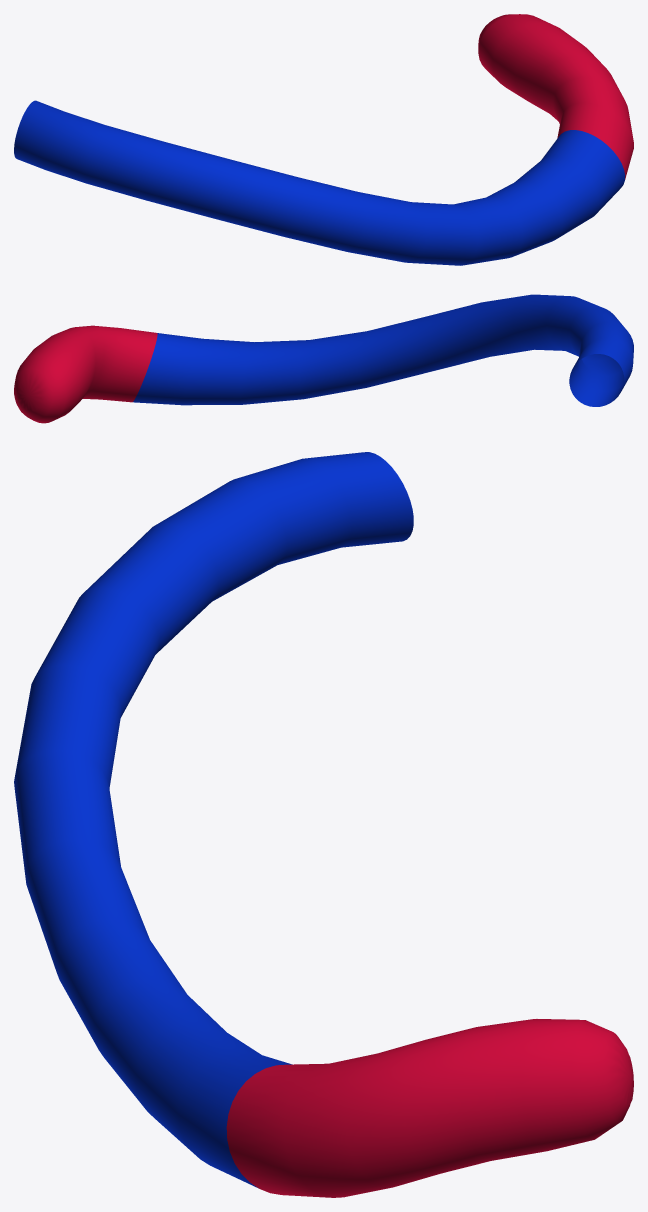
3 renders of one model, top to bottom at view 1: azimuth 30°, elevation 25°; view 2: azimuth 150°, elevation 25°; view 3: azimuth 270°, elevation 25°, orthographic. The views are drawn at different scales.
Parts seen in each view (by area): view 1: BezierCurve.019; view 2: BezierCurve.019; view 3: BezierCurve.019.
Boxes of the visible parts, left/top/right/bottom form: BezierCurve.019: left=14, top=14, right=633, bottom=265; BezierCurve.019: left=14, top=294, right=633, bottom=423; BezierCurve.019: left=14, top=452, right=633, bottom=1197.
Bounding box in the file's own units: 3.5 × 1.12 × 1.92.
